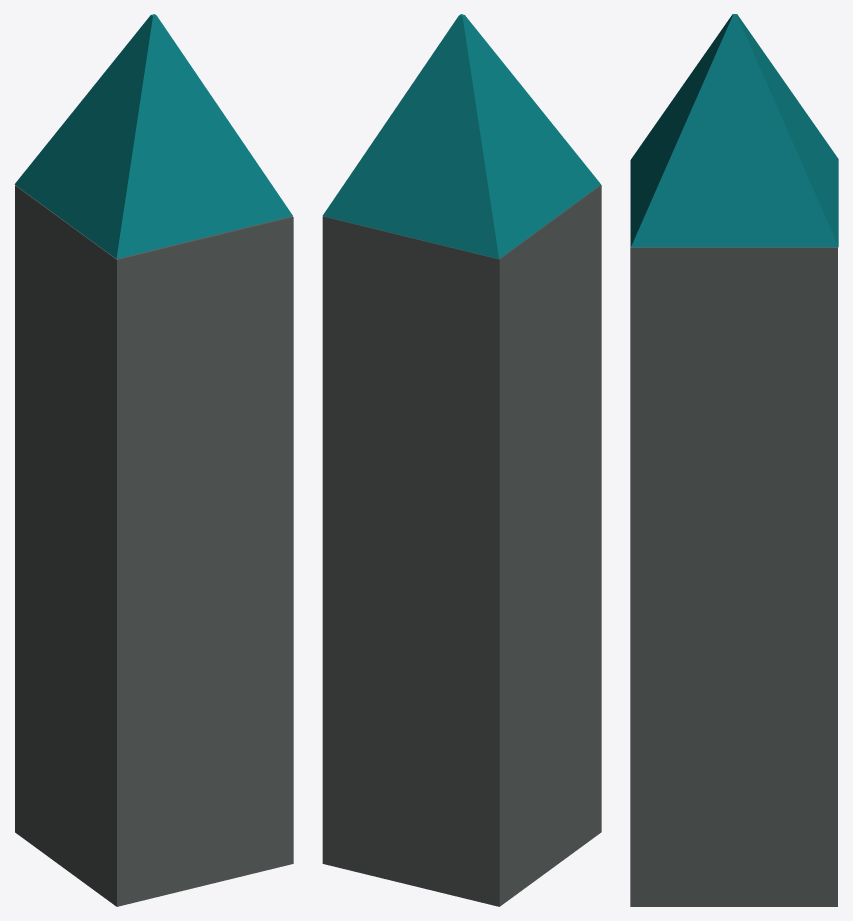
File: skyscraper.dae
The picture shows the model from 3 angles, left to right: view 1: azimuth 30°, elevation 25°; view 2: azimuth 150°, elevation 25°; view 3: azimuth 270°, elevation 25°; orthographic projection.
Visible parts, largest first — view 1: Cube; view 2: Cube; view 3: Cube.
Part boxes in pixels (<box>): Cube: <box>14,14,293,906</box>; Cube: <box>322,14,601,906</box>; Cube: <box>630,14,838,906</box>.
Size of the model in its own units: 2 by 2.01 by 9.01.
